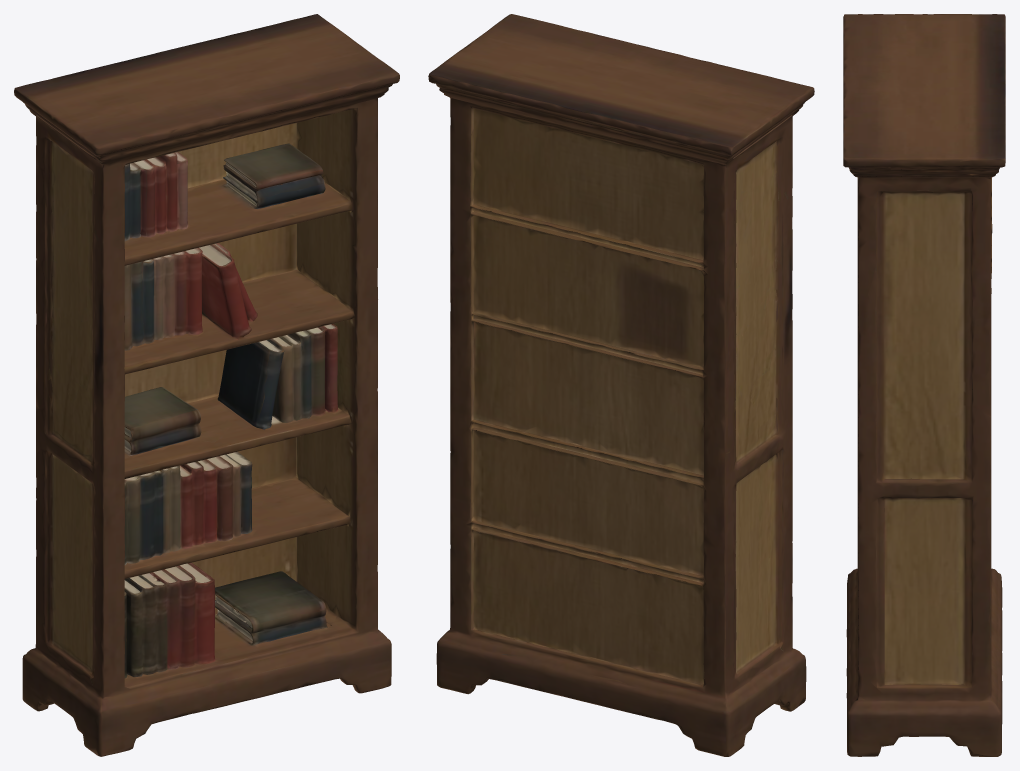
Rendered from trellis2-generated.glb.
3 renders of one model, left to right at view 1: azimuth 30°, elevation 25°; view 2: azimuth 150°, elevation 25°; view 3: azimuth 270°, elevation 25°, orthographic. The views are drawn at different scales.
Visible parts, largest first — view 1: world; view 2: world; view 3: world.
Boxes of the visible parts, left/top/right/bottom form: world: left=14, top=14, right=399, bottom=756; world: left=428, top=14, right=814, bottom=756; world: left=843, top=14, right=1005, bottom=756.
Size of the model in its own units: 0.5201 by 1 by 0.2455.
1 material, 1 textured.
